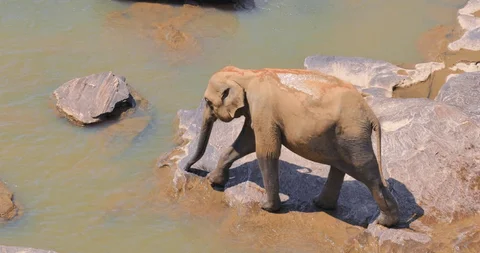Adult Elephant: (155, 51, 441, 237)
